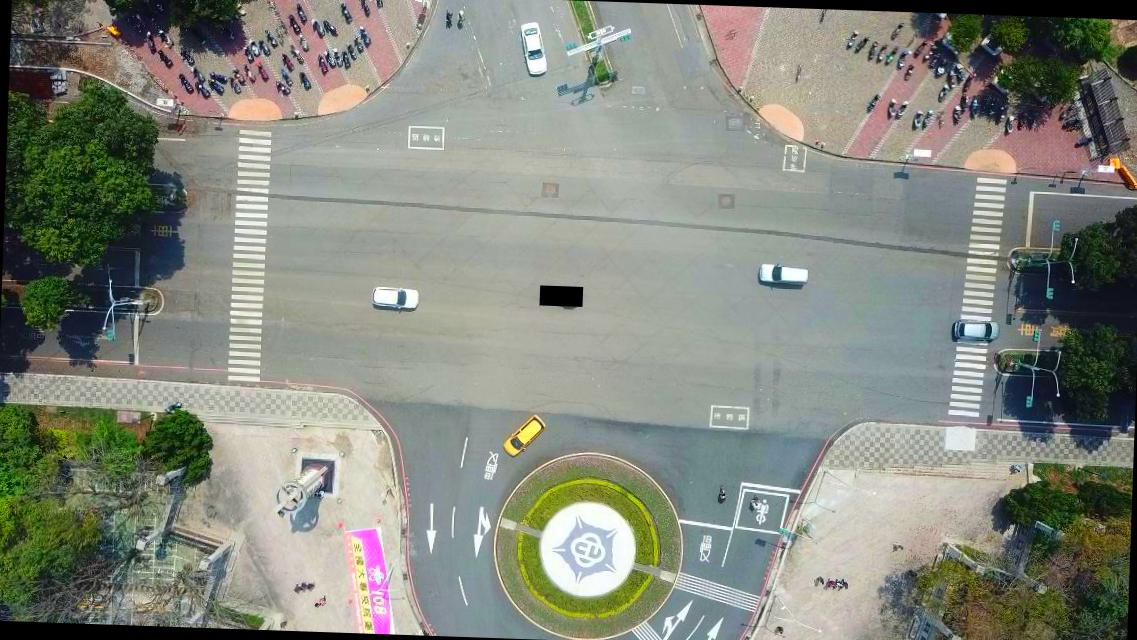vehicle: (501, 412, 547, 458), (516, 21, 550, 76), (756, 260, 809, 288), (369, 284, 419, 313), (950, 319, 1000, 342)
